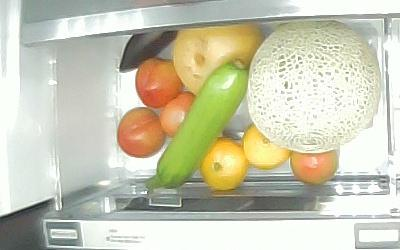eggplant: (118, 29, 177, 72)
melon: (245, 19, 381, 155)
pear: (175, 25, 266, 95)
prune: (117, 107, 167, 158), (135, 58, 183, 109), (160, 92, 196, 137)
tangerine: (199, 138, 246, 192), (244, 123, 291, 169)
tomato: (290, 150, 338, 184)
zucchini: (145, 58, 248, 190)
